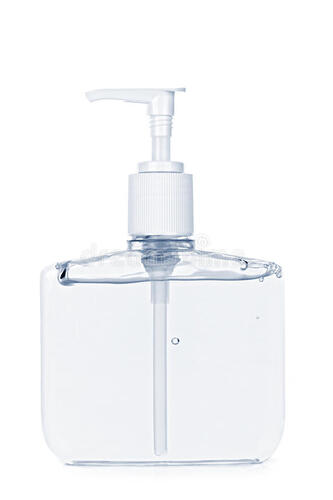sanitizer: (44, 84, 282, 470)
